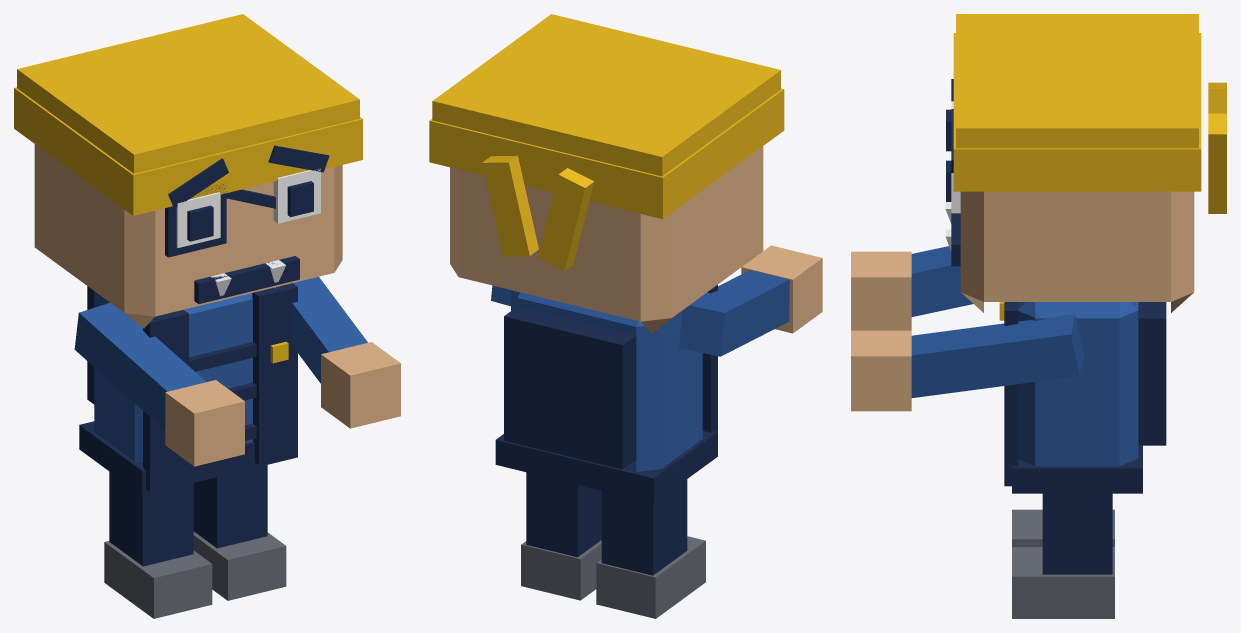
Rendered from grunt_r13.glb.
The picture shows the model from 3 angles, left to right: view 1: azimuth 30°, elevation 25°; view 2: azimuth 150°, elevation 25°; view 3: azimuth 270°, elevation 25°; orthographic projection. The views are drawn at different scales.
Parts seen in each view (by area): view 1: grunt_r13_mesh; view 2: grunt_r13_mesh; view 3: grunt_r13_mesh.
Part boxes in pixels (box(x1,y1,x2,y2)): grunt_r13_mesh: box(14, 14, 400, 618); grunt_r13_mesh: box(429, 14, 822, 618); grunt_r13_mesh: box(851, 14, 1226, 618).
Size of the model in its own units: 0.7284 by 1.5 by 0.9938.
Materials: 1 (1 with a texture image).
